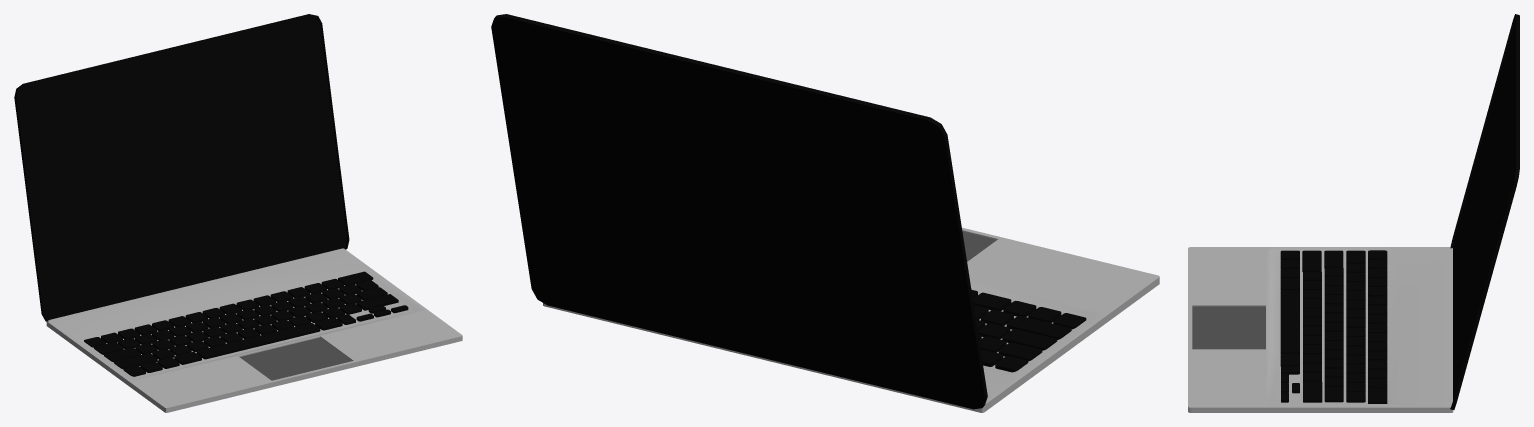
Rendered from laptop.glb.
3 views of the same model, side by side, from view 1: azimuth 30°, elevation 25°; view 2: azimuth 150°, elevation 25°; view 3: azimuth 270°, elevation 25° (orthographic). The views are drawn at different scales.
Visible parts, largest first — view 1: tela, base, teclado; view 2: tela, base, teclado; view 3: base, teclado, tela.
Part boxes in pixels (x1,y1,x2,y2): tela: [14, 14, 349, 321]; base: [46, 248, 462, 412]; teclado: [84, 271, 408, 376]; tela: [491, 14, 987, 409]; base: [543, 227, 1159, 412]; teclado: [971, 289, 1086, 372]; base: [1188, 247, 1453, 412]; teclado: [1280, 250, 1387, 403]; tela: [1450, 14, 1519, 409].
Size of the model in its own units: 0.3023 by 0.2064 by 0.2566.
5 materials, 2 textured.
